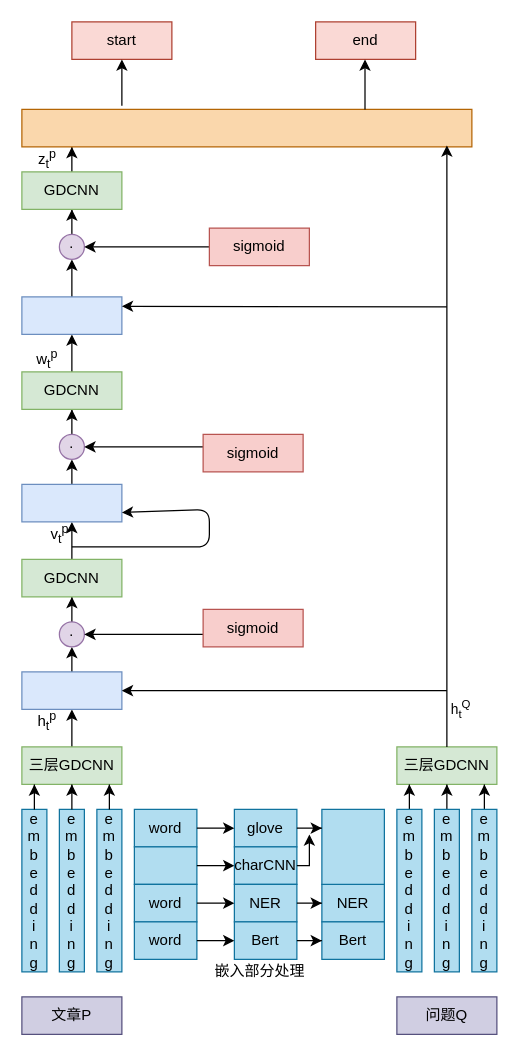
Image size: 519x1056. Some labels were removed from this diagram. The shapes that lost their labels are listed below. From the top down, each one's box as (x1, y1, x2, y2) in pixels, then its label:
(21, 108, 472, 147): Point Network
(21, 296, 122, 334): multi-att
(21, 483, 122, 522): self-att
(21, 671, 122, 709): att
(133, 846, 197, 884): char
(321, 808, 384, 884): 字词 混合
